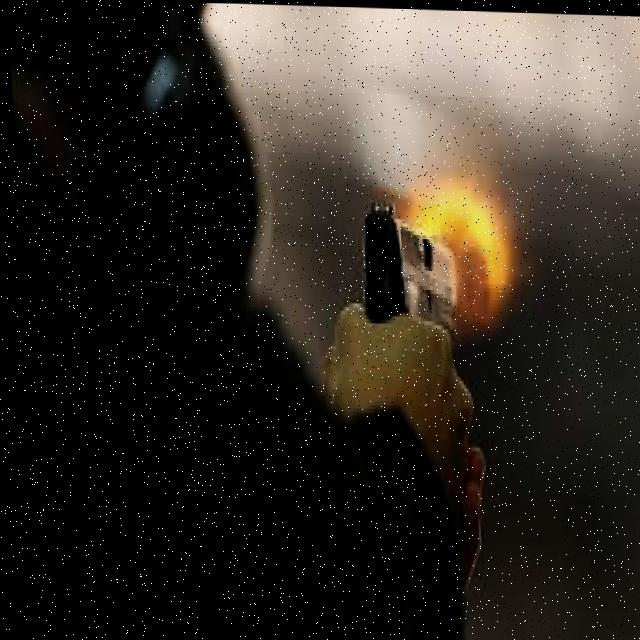pistol: (353, 193, 456, 323)
